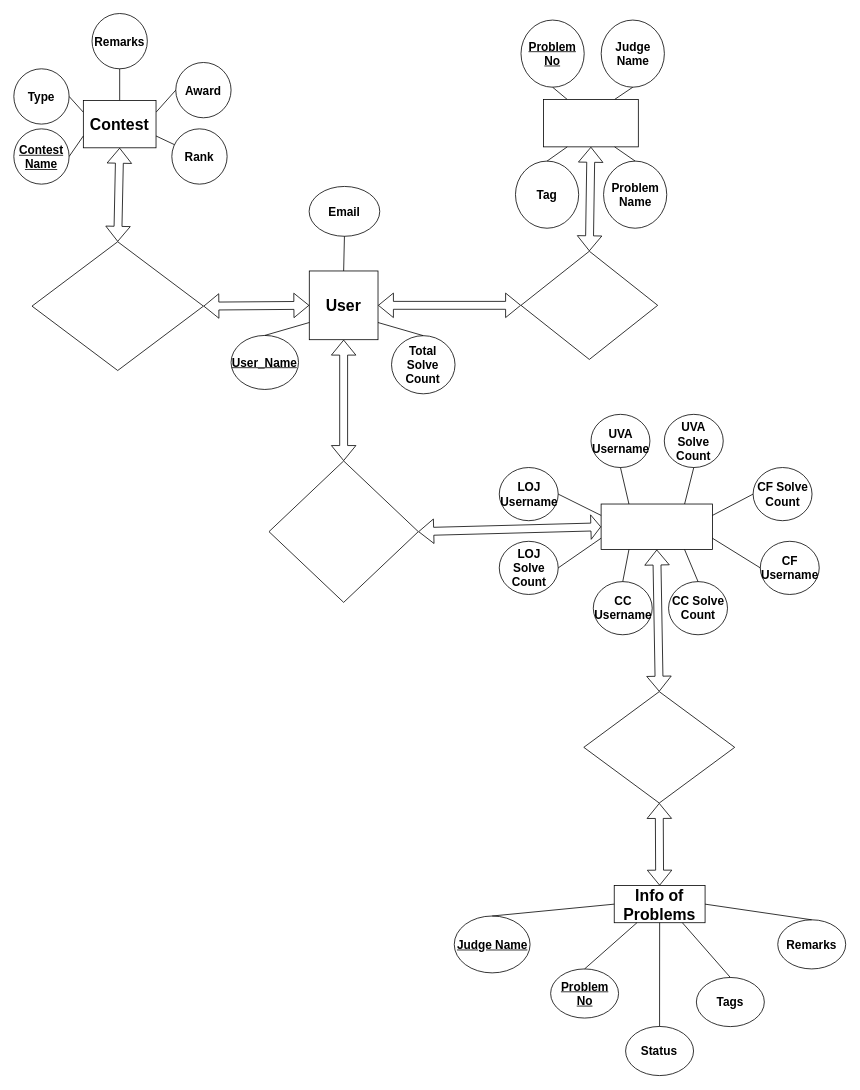
The diagram is 860 pixels wide and 1090 high, and some of its shapes have lost their labels. The box of each missing label's shape, as (x1, y1, x2, y2) in pixels:
Information of Judge: (583, 691, 735, 803)
Online Judge: (600, 503, 712, 550)
Problem List: (543, 99, 638, 147)
Problem List For Beginners: (520, 250, 658, 359)
User's different OJ account: (268, 460, 418, 602)
User's Participation in different contest: (31, 241, 203, 371)
